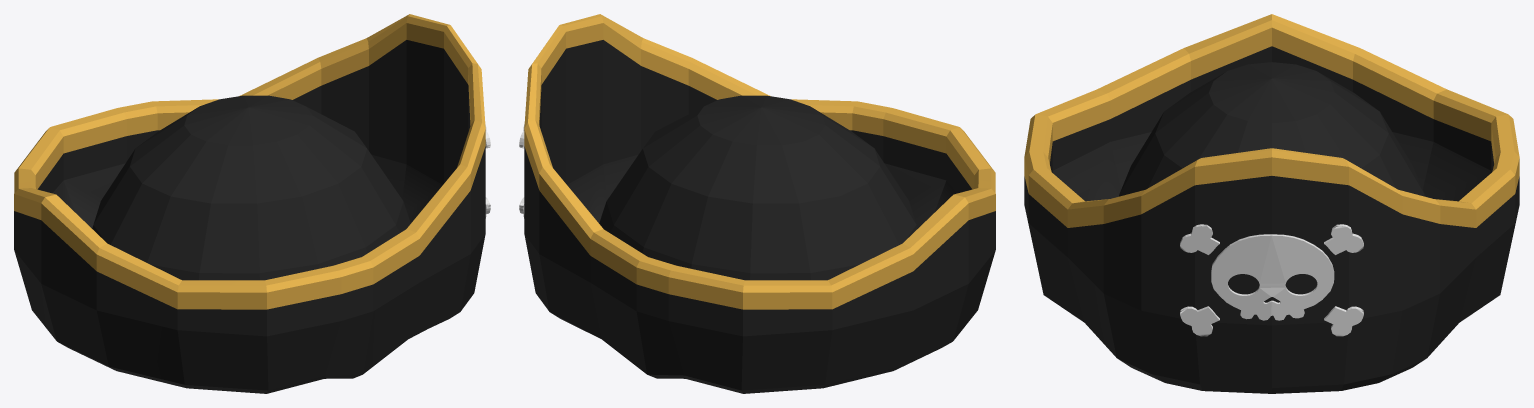
Rendered from pirate_hat.glb.
3 views of the same model, side by side, from view 1: azimuth 30°, elevation 25°; view 2: azimuth 150°, elevation 25°; view 3: azimuth 270°, elevation 25° (orthographic). The views are drawn at different scales.
Visible parts, largest first — view 1: Hatskull.001_HatsMaterial_0.001; view 2: Hatskull.001_HatsMaterial_0.001; view 3: Hatskull.001_HatsMaterial_0.001.
Boxes of the visible parts, x1,y1,x2,y2 form: Hatskull.001_HatsMaterial_0.001: (14,14,490,393); Hatskull.001_HatsMaterial_0.001: (519,14,995,393); Hatskull.001_HatsMaterial_0.001: (1024,14,1519,393).
Bounding box in the file's own units: 0.4 × 0.216 × 0.3782.
1 material, 1 textured.
